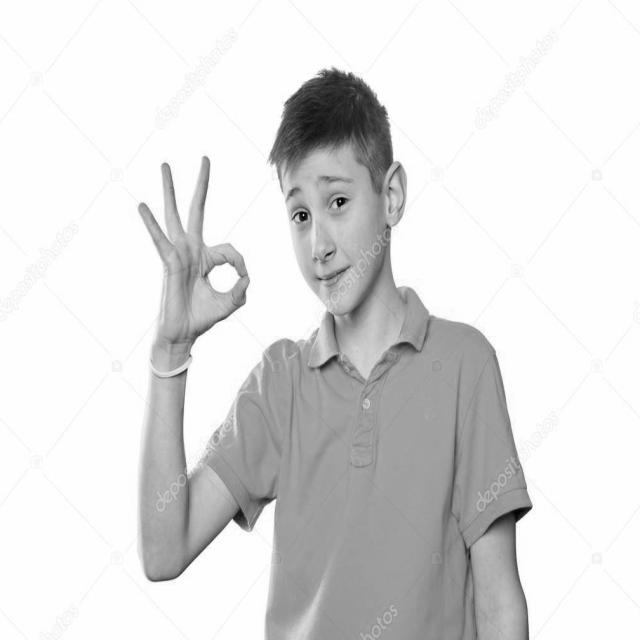perfect: (131, 149, 254, 350)
